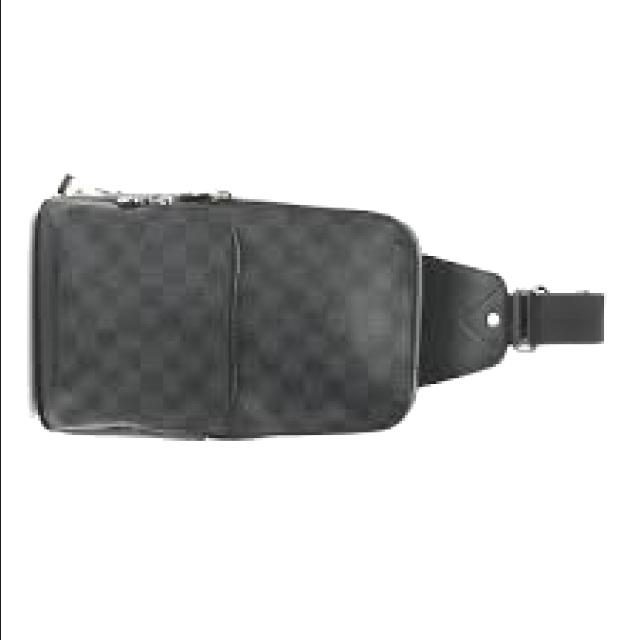backpack: (35, 174, 607, 442)
